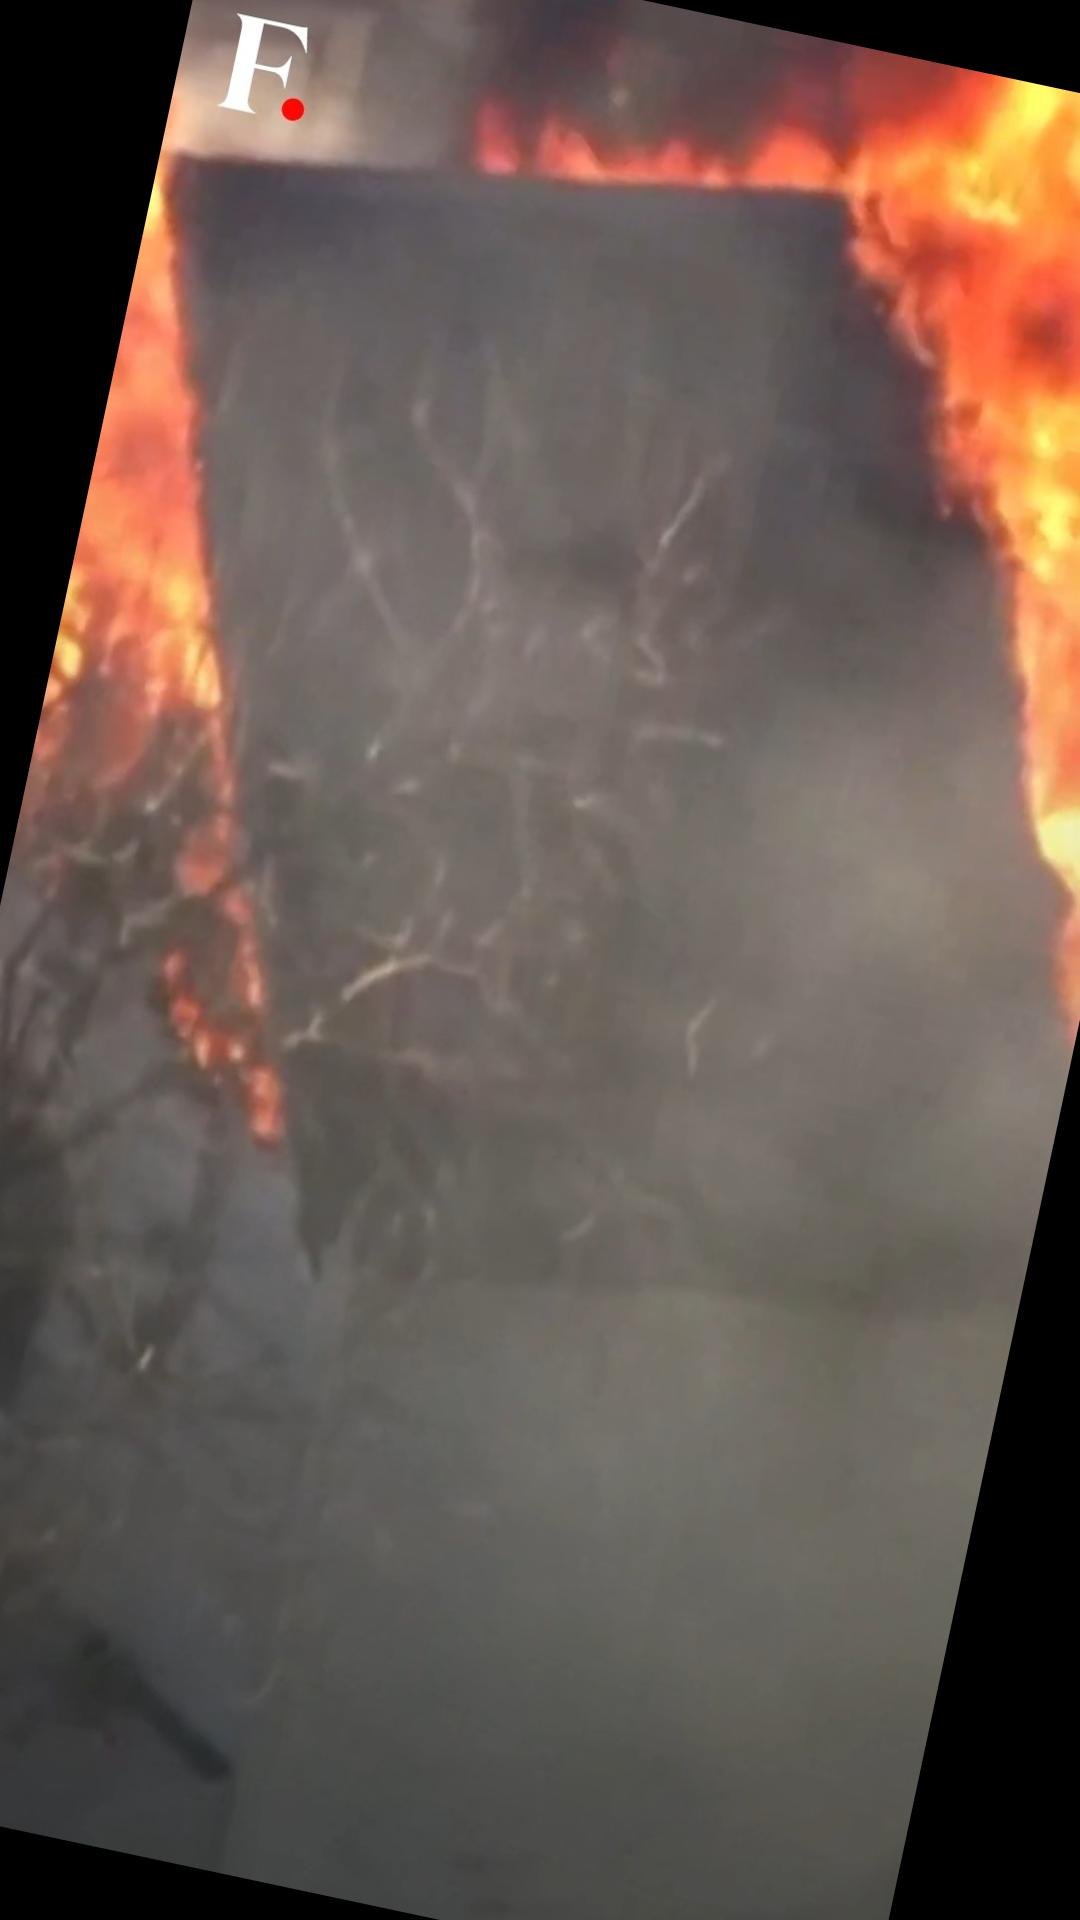Fire: (0, 137, 495, 1176), (674, 47, 1080, 1052)
Smoke: (204, 1224, 1005, 1920)
